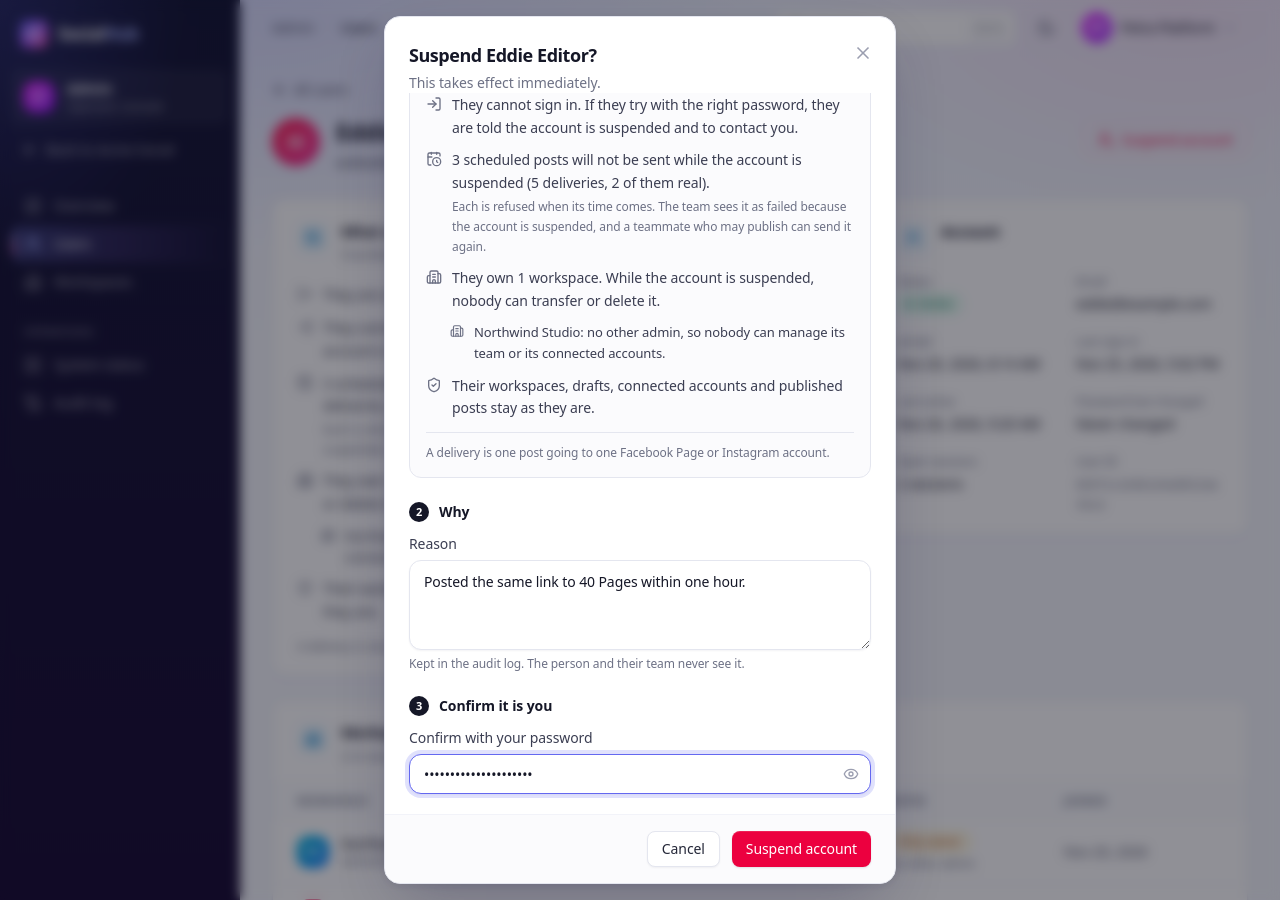
it: suspending an account › suspends, closes the dialog and shows the account as suspended
Earlier steps of the test are not shown.
(page scrolled)
Click the button "Suspend account" at (801,849), box [732,831,871,867]
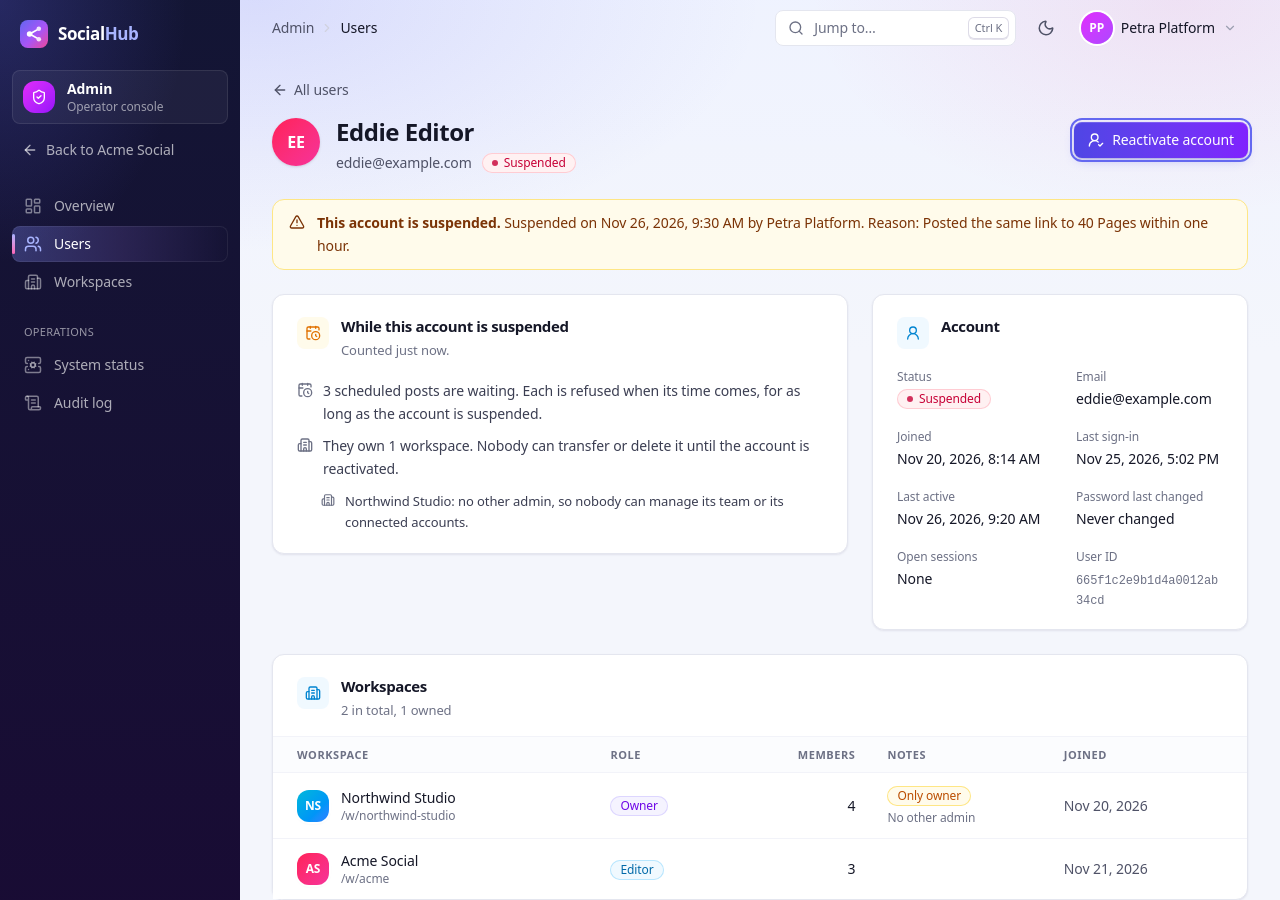
Now the dialog is gone
Now the text "This account is suspended." is shown, box [317,213,501,232]
Now the button "Reactivate account" is shown, box [1074,122,1248,158]
